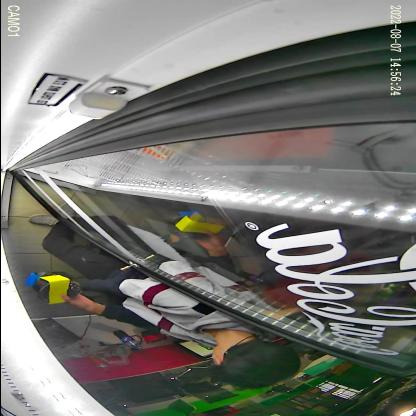blue: (23, 270, 70, 288)
yellow: (31, 275, 82, 304)
